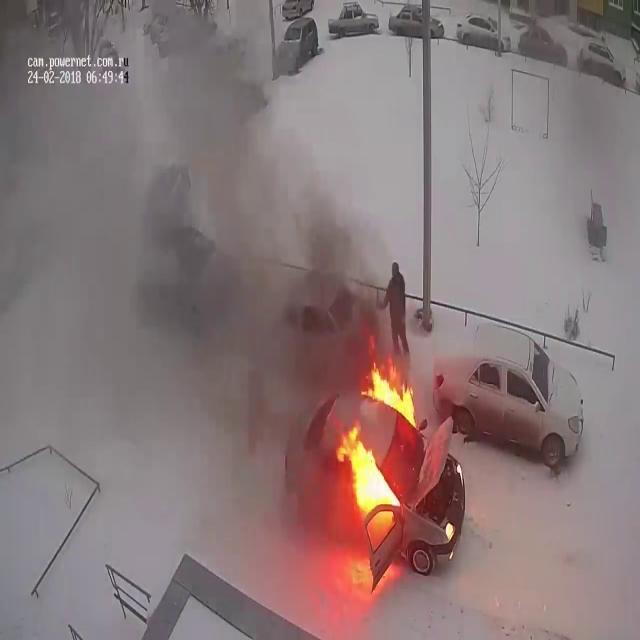Fire: (335, 419, 403, 519), (366, 353, 418, 425)
Smoke: (0, 4, 384, 548)
